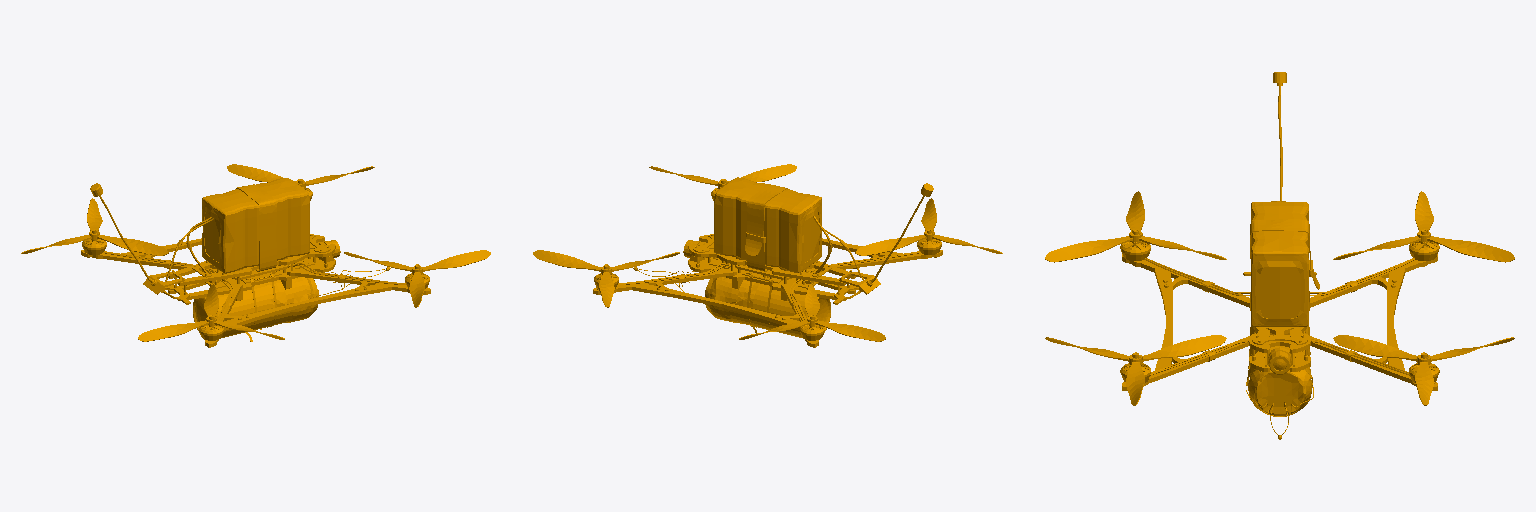
robot.urdf — Vapor_X5:
<?xml version="1.0"?>
<robot name="Vapor_X5">

  <!-- Corps central -->
  <link name="base_link">
    <inertial>
      <origin xyz="0 0 0" rpy="0 0 0"/>
      <mass value="0.409"/> <!-- kg To modify -->
      <inertia ixx="0.0001" ixy="0" ixz="0" iyy="0.0001" iyz="0" izz="0.0002"/> <!-- kg.m^2 To modify -->
    </inertial>
    <visual>
      <origin xyz="0 0 0" rpy="0 0 0"/>
      <geometry>
        <mesh filename="meshes/Drone_mesh.dae" scale="0.3 0.3 0.3"/>
      </geometry>
    </visual>
    <collision>
      <origin xyz="0 0 0" rpy="0 0 0"/>
      <geometry>
        <mesh filename="meshes/Drone_mesh.dae" scale="0.3 0.3 0.3"/>
      </geometry>
    </collision>
  </link>

  <!-- Bras articulé -->
  <link name="arm_link">
    <inertial>
      <origin xyz="0 0 0" rpy="0 0 0"/>
      <mass value="0.1"/>
      <inertia ixx="0.0001" ixy="0" ixz="0" iyy="0.0001" iyz="0" izz="0.0001"/>
    </inertial>
    <visual>
      <origin xyz="0 0 0" rpy="0 0 0"/>
      <geometry>
        <box size="0.0 0.0 0.0"/>
      </geometry>
      <material name="red"/>
    </visual>
    <collision>
      <origin xyz="0 0 0" rpy="0 0 0"/>
      <geometry>
        <box size="0.0 0.0 0.0"/>
      </geometry>
    </collision>
  </link>

  <!-- Joint rotatif entre base_link et arm_link -->
  <joint name="joint_arm" type="revolute">
    <parent link="base_link"/>
    <child link="arm_link"/>
    <origin xyz="0 0 0" rpy="0 0 0"/>
    <axis xyz="0 0 1"/> <!-- axe de rotation autour de Z -->
    <limit lower="-1.57" upper="1.57" effort="0.5" velocity="1.0"/>
  </joint>
  
</robot>

--- Render facts (derived) ---
Views: 3 orthographic renders of the robot side by side, from view 1: azimuth 30°, elevation 25°; view 2: azimuth 150°, elevation 25°; view 3: azimuth 270°, elevation 25°.
Model Vapor_X5 with 2 links and 1 joints (1 revolute), rooted at base_link, posed every joint at zero.
Links seen in each view (by area): view 1: base_link; view 2: base_link; view 3: base_link.
Boxes of the visible links, box(x1,y1,x2,y2) form: base_link: box(21, 164, 490, 347); base_link: box(533, 164, 1002, 347); base_link: box(1045, 72, 1514, 439).
Size in the robot's own frame: 0.32 by 0.2999 by 0.1632 metres.
Meshes: 1 distinct files referenced, 1 mesh visuals loaded (1 Collada DAE).